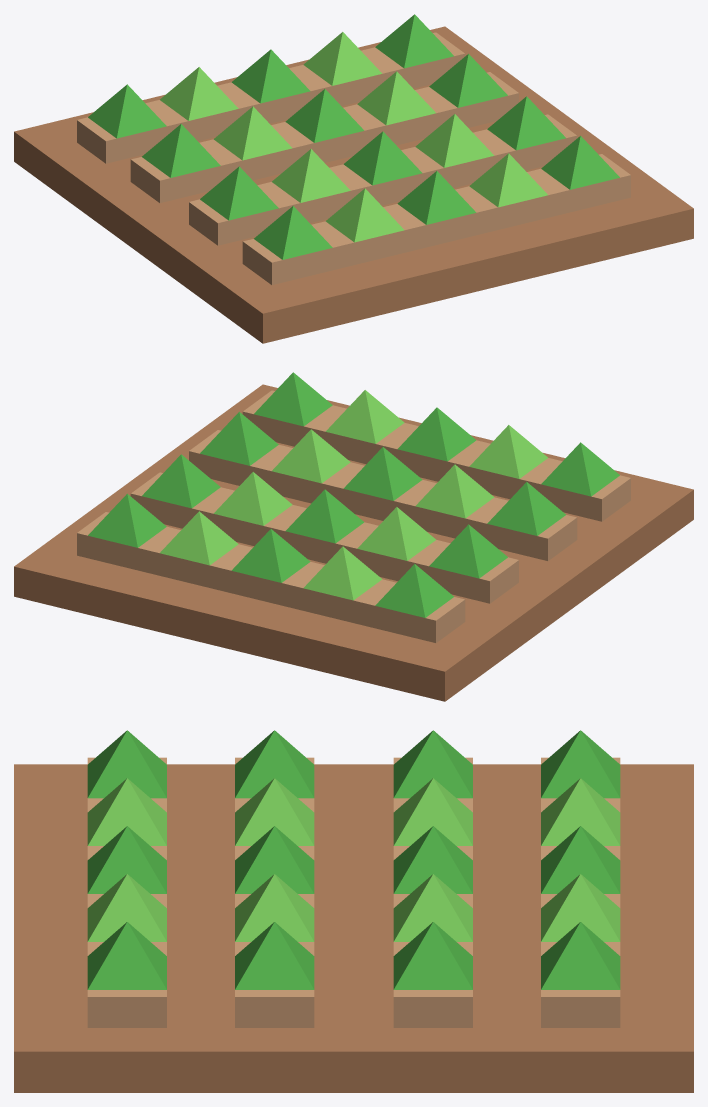
File: field_t1_v2.glb
3 renders of one model, top to bottom at view 1: azimuth 30°, elevation 25°; view 2: azimuth 150°, elevation 25°; view 3: azimuth 270°, elevation 25°, orthographic. The views are drawn at different scales.
Visible parts, largest first — view 1: field_t1_v2; view 2: field_t1_v2; view 3: field_t1_v2.
Boxes of the visible parts, bbox=[...] form: field_t1_v2: bbox=[14, 14, 693, 343]; field_t1_v2: bbox=[14, 372, 693, 701]; field_t1_v2: bbox=[14, 730, 693, 1092].
Size of the model in its own units: 0.6 by 0.12 by 0.6.
Materials: 1 (1 with a texture image).
